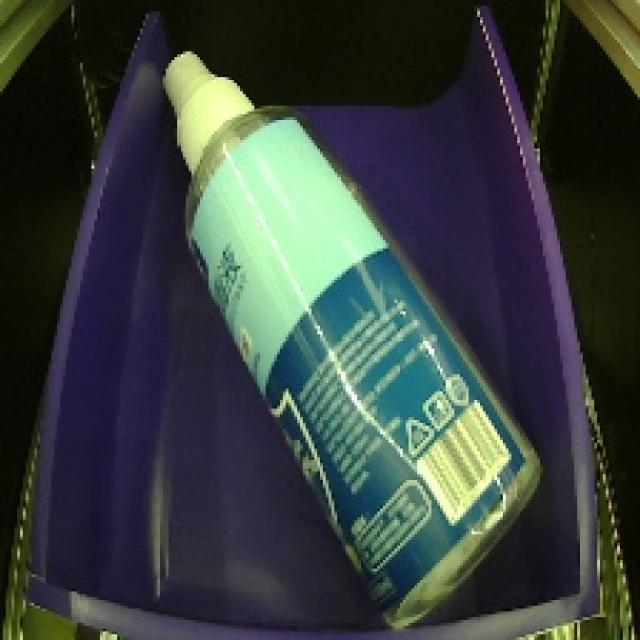plastic: (128, 29, 553, 628)
